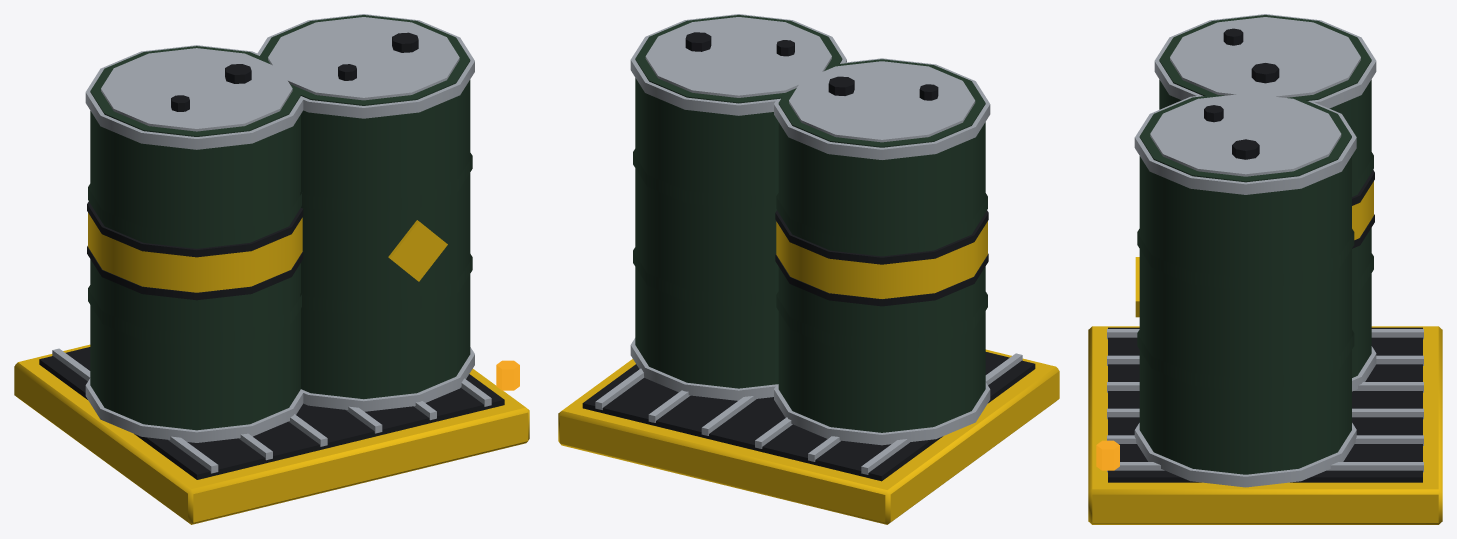
The model's file is barrel_toxic_drums_sump.glb.
3 views of the same model, side by side, from view 1: azimuth 30°, elevation 25°; view 2: azimuth 150°, elevation 25°; view 3: azimuth 270°, elevation 25° (orthographic). The views are drawn at different scales.
Visible parts, largest first — view 1: barrel_toxic_drums_sump; view 2: barrel_toxic_drums_sump; view 3: barrel_toxic_drums_sump.
Part boxes in pixels (x1,y1,x2,y2): barrel_toxic_drums_sump: [14, 14, 529, 524]; barrel_toxic_drums_sump: [558, 14, 1059, 524]; barrel_toxic_drums_sump: [1088, 14, 1442, 524].
Bounding box in the file's own units: 1.02 × 1 × 0.9.
